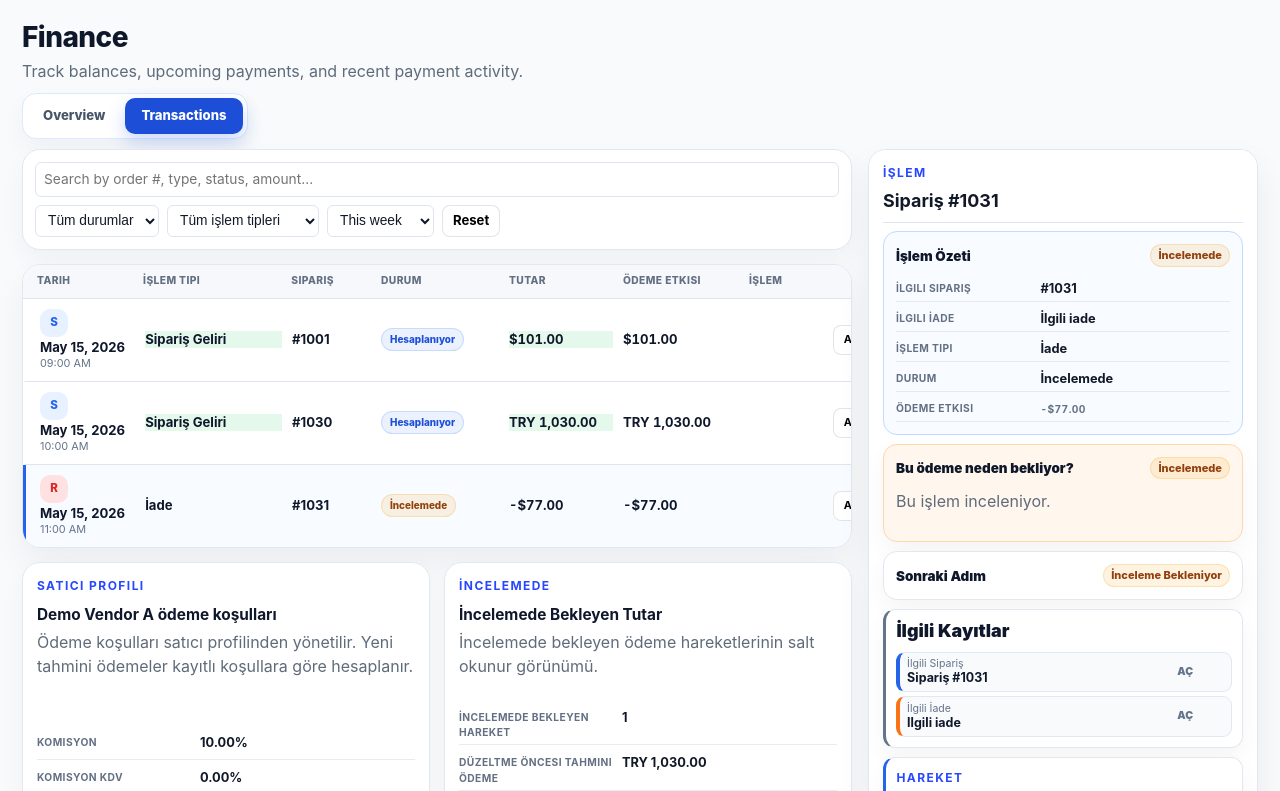
Test: operational deep-link smoke navigation › navigates Finance linked Return to Returns workspace and selects the target return
Check: the heading "İşlem Özeti" is shown, box [896, 246, 971, 266]
Check: the 2nd text "#1031" is shown, box [292, 497, 329, 513]
What coordinates should you click on to do the following:
click the link "İlgili İade İlgili iade Aç"
I would click on:
 (929, 708)
Its box is [896, 696, 1232, 737].
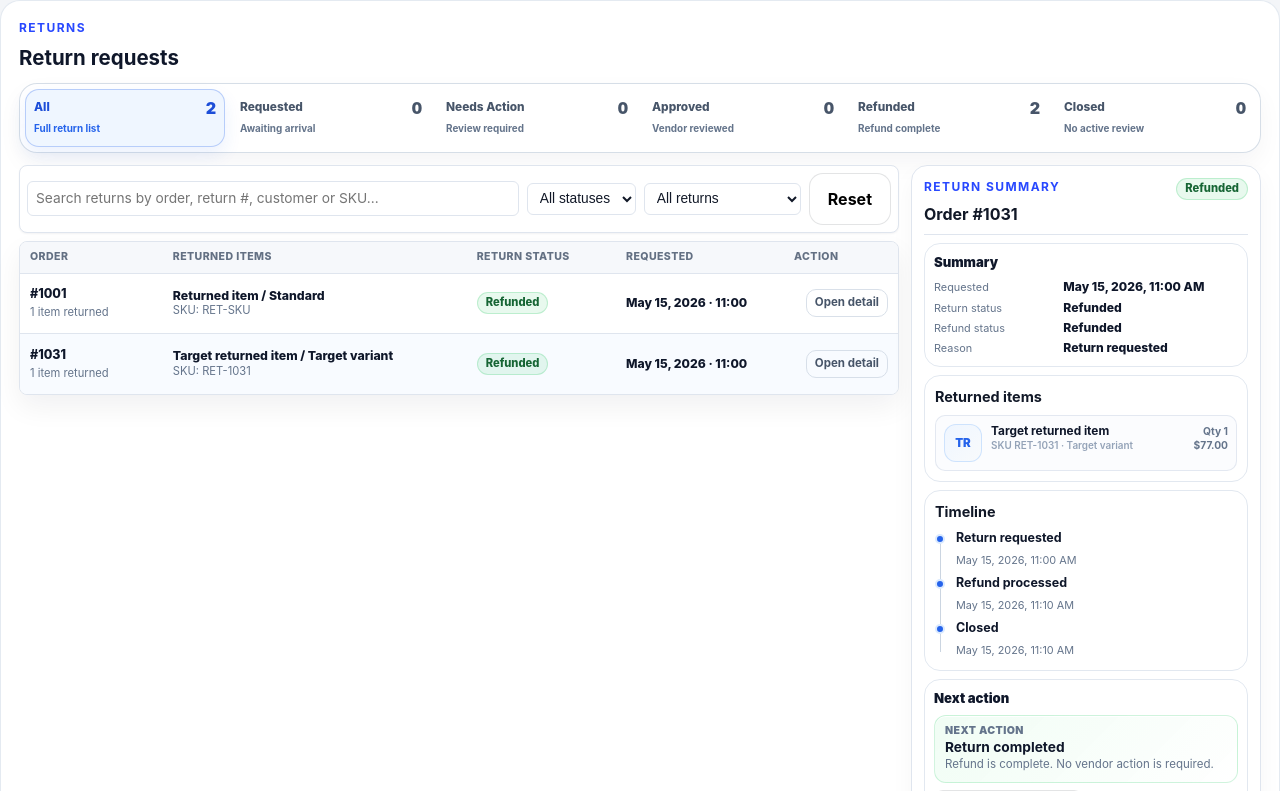
Check: the text "Target returned item" is shown, box [991, 424, 1109, 438]
